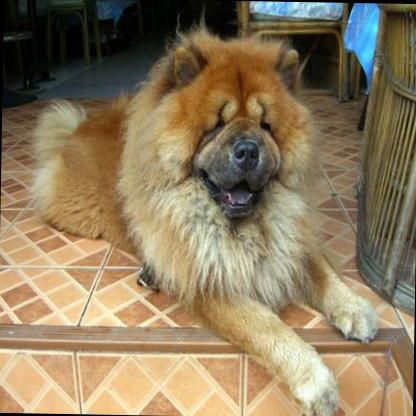chow: (22, 3, 385, 416)
